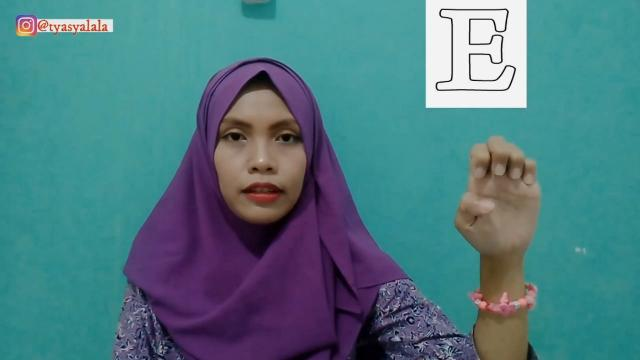E: (452, 134, 540, 260)
